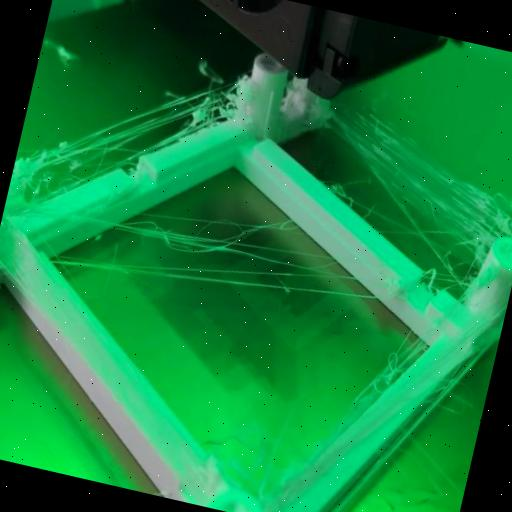stringing: (20, 185, 365, 299), (331, 89, 512, 274), (20, 69, 245, 193), (71, 251, 355, 308), (349, 321, 432, 421)
